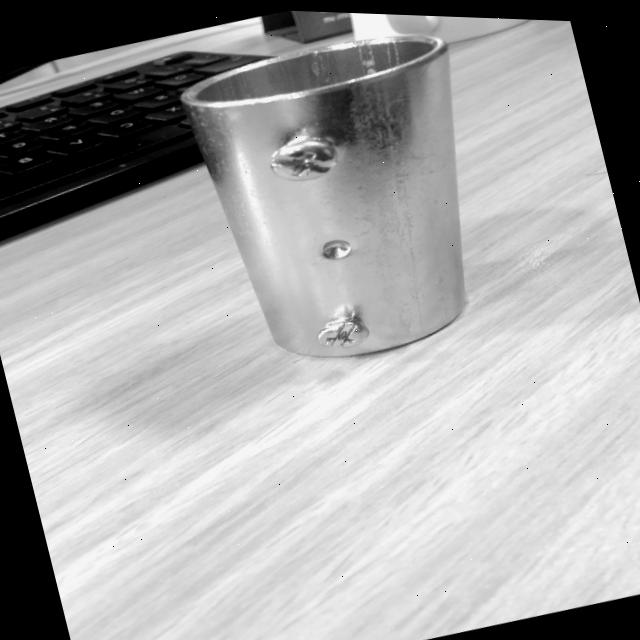Co_Lon: (176, 22, 503, 379)
